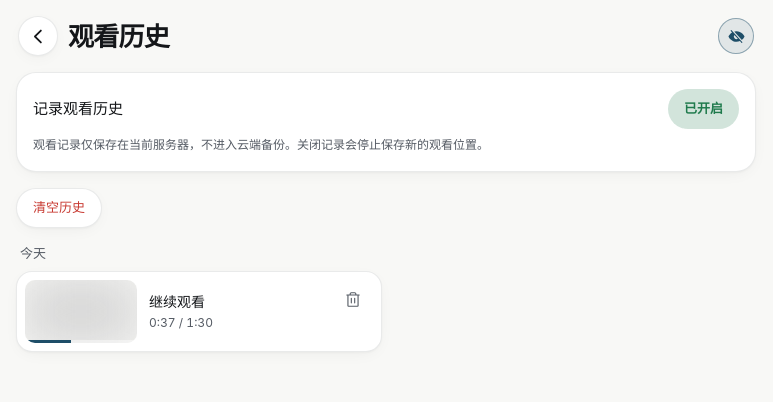
Scenario: failed history preference changes keep the current value and allow a retry
The width and height of the screenshot is (773, 402).
Click the switch labelled "已开启". click: (704, 109)
box: [668,89,739,129]
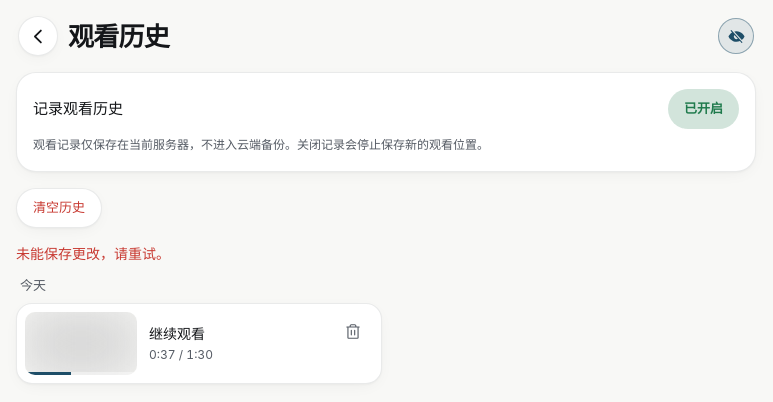
Click the switch labelled "已开启". click: (704, 109)
box: [668,89,739,129]
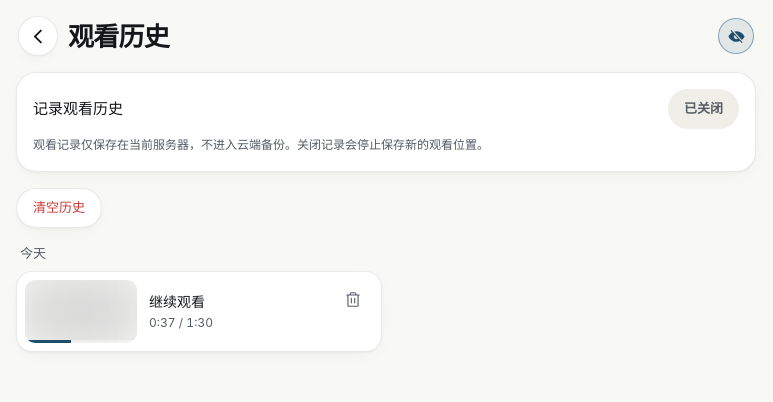
Expected: the switch labelled "已关闭" is not checked, [668,89,739,129]
